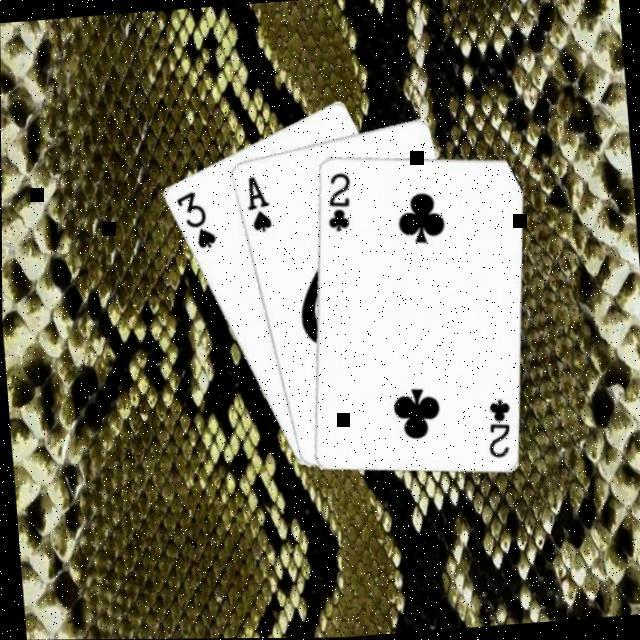2C: (322, 166, 356, 232), (482, 393, 516, 459)
3S: (172, 185, 220, 251)
AS: (242, 170, 275, 232)
